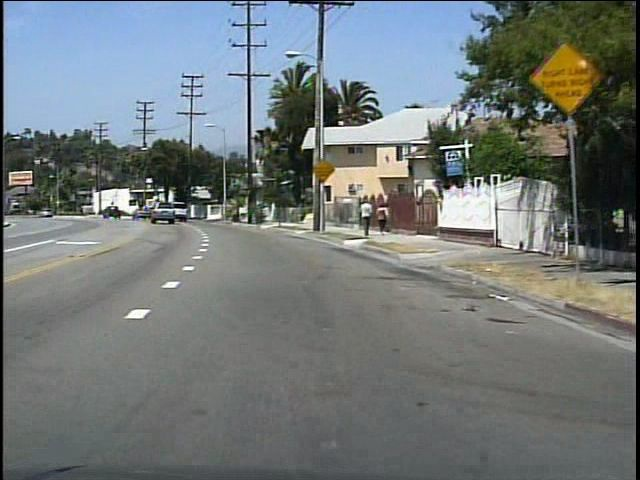person: (356, 196, 374, 239), (373, 200, 390, 235)
